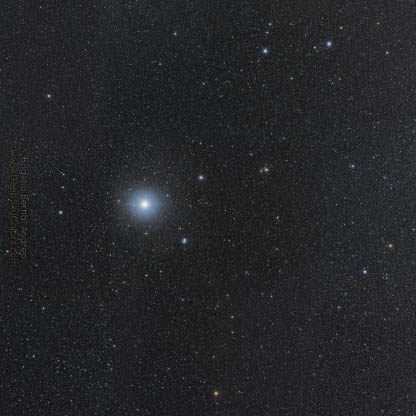Lyra: (121, 183, 164, 225), (172, 229, 195, 252), (191, 164, 212, 188), (257, 160, 278, 183), (252, 39, 271, 60), (320, 32, 339, 53)
